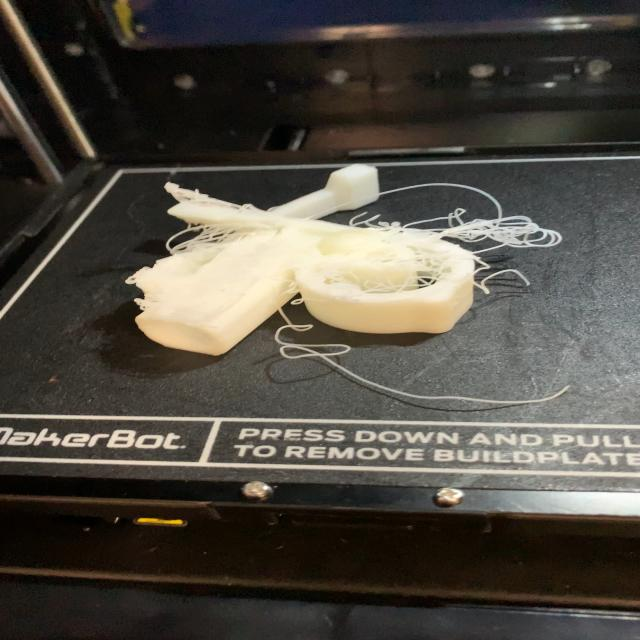spaghetti: (125, 178, 488, 356)
